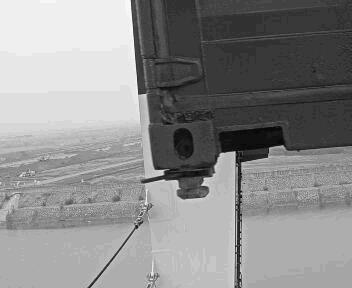twist_lock_1: (153, 159, 221, 207)
